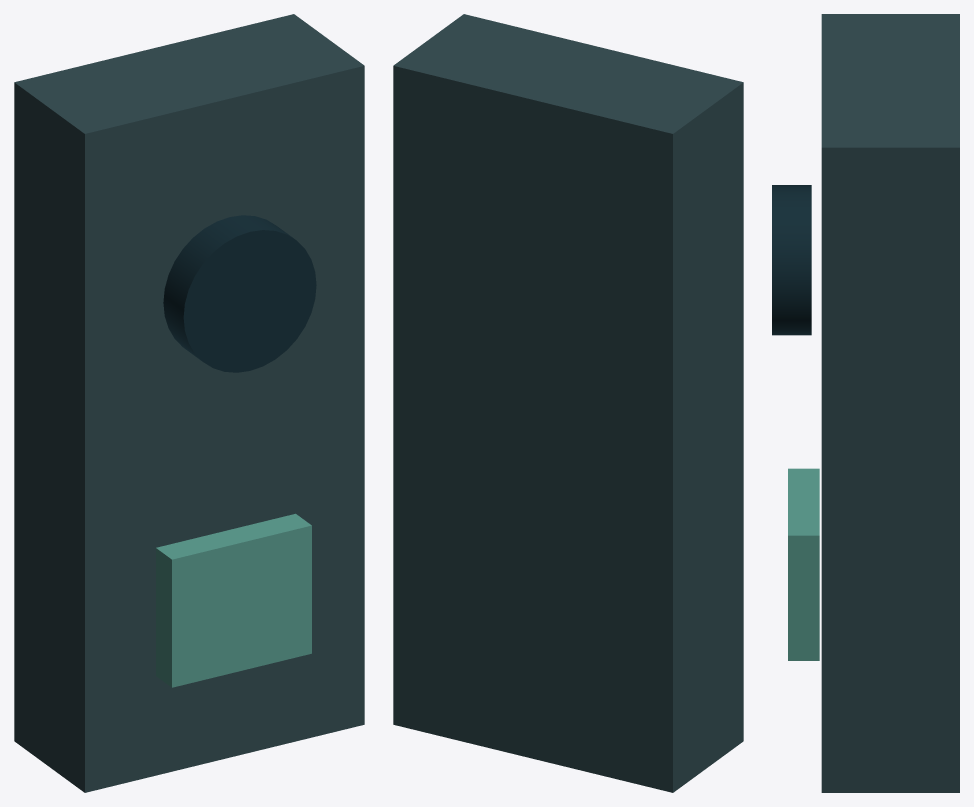
File: video_doorbell.glb
The picture shows the model from 3 angles, left to right: view 1: azimuth 30°, elevation 25°; view 2: azimuth 150°, elevation 25°; view 3: azimuth 270°, elevation 25°; orthographic projection. The views are drawn at different scales.
Parts seen in each view (by area): view 1: bell-housing, bell-button, camera; view 2: bell-housing; view 3: bell-housing, bell-button, camera.
Boxes of the visible parts, left/top/right/bottom form: bell-housing: left=14, top=14, right=364, bottom=792; bell-button: left=156, top=513, right=311, bottom=687; camera: left=163, top=215, right=316, bottom=372; bell-housing: left=393, top=14, right=743, bottom=792; bell-housing: left=821, top=14, right=959, bottom=792; bell-button: left=788, top=468, right=819, bottom=660; camera: left=772, top=185, right=811, bottom=335.
Bounding box in the file's own units: 0.08 × 0.18 × 0.0475.
